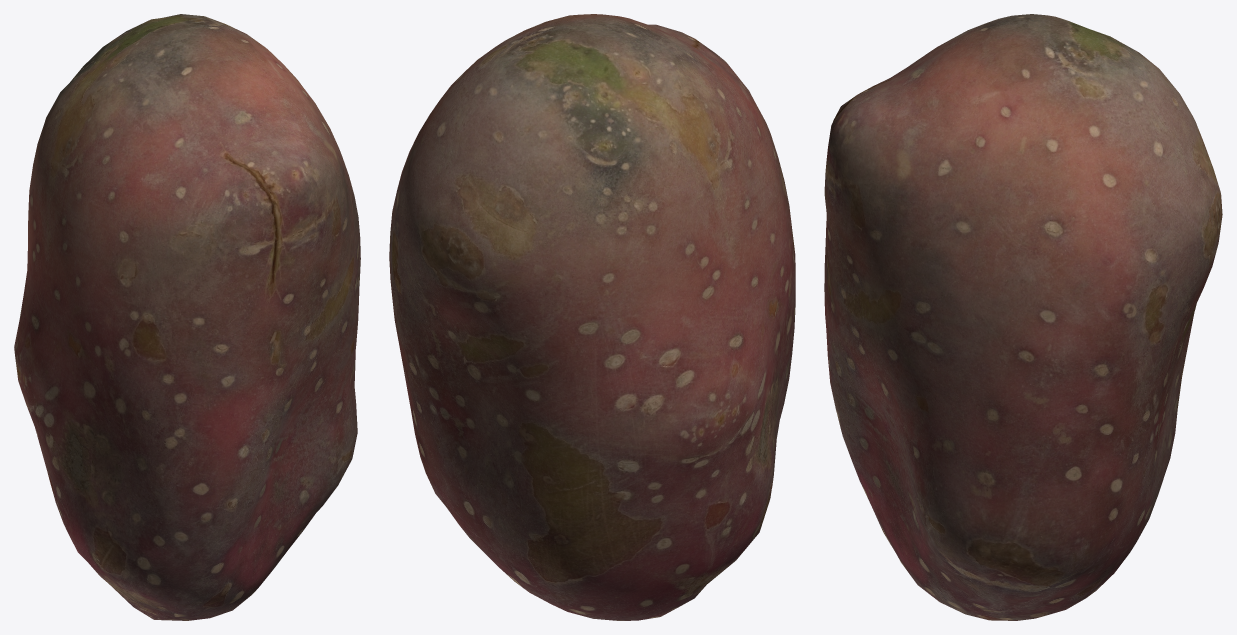
File: sweet_potato.glb
3 views of the same model, side by side, from view 1: azimuth 30°, elevation 25°; view 2: azimuth 150°, elevation 25°; view 3: azimuth 270°, elevation 25° (orthographic). The views are drawn at different scales.
Parts seen in each view (by area): view 1: sweet_potato; view 2: sweet_potato; view 3: sweet_potato.
Boxes of the visible parts, box(x1,y1,x2,y2) form: sweet_potato: box(14, 14, 360, 620); sweet_potato: box(389, 14, 795, 620); sweet_potato: box(824, 14, 1222, 620).
Size of the model in its own units: 0.0584 by 0.1004 by 0.061.
1 material, 1 textured.
